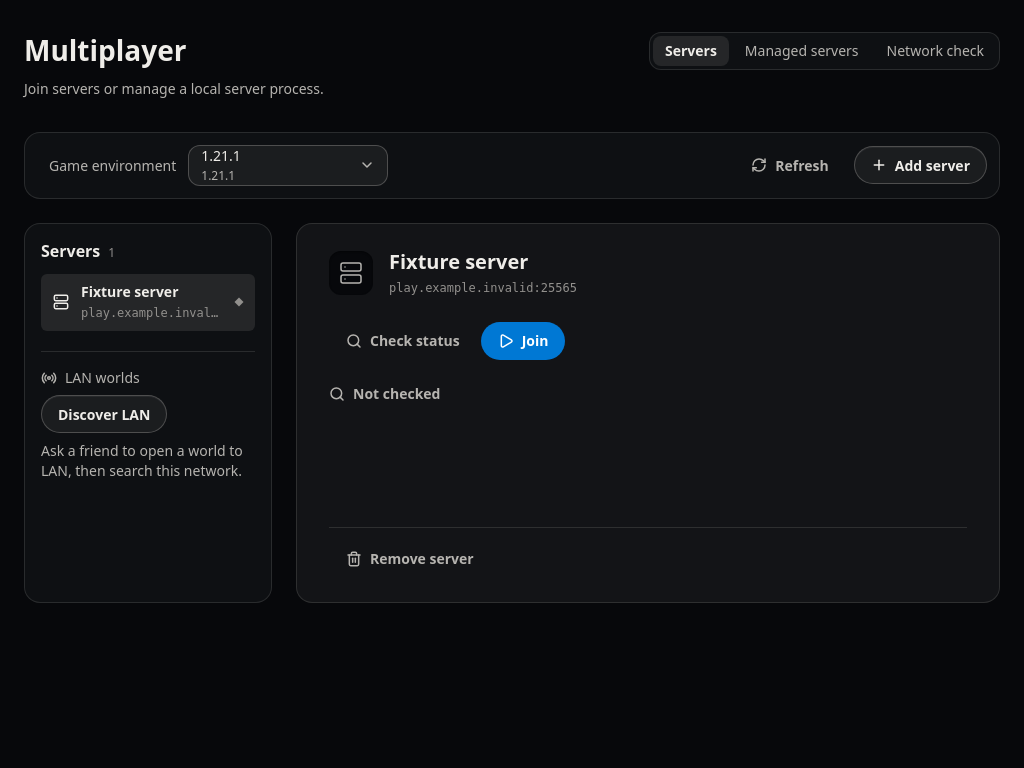
Scenario: multiplayer › refreshes on snapshot conflict and leaves the rejection visible for the current environment
This screenshot has width=1024, height=768.
Click the button "Remove server" at (410, 559), box [329,540,491,578]
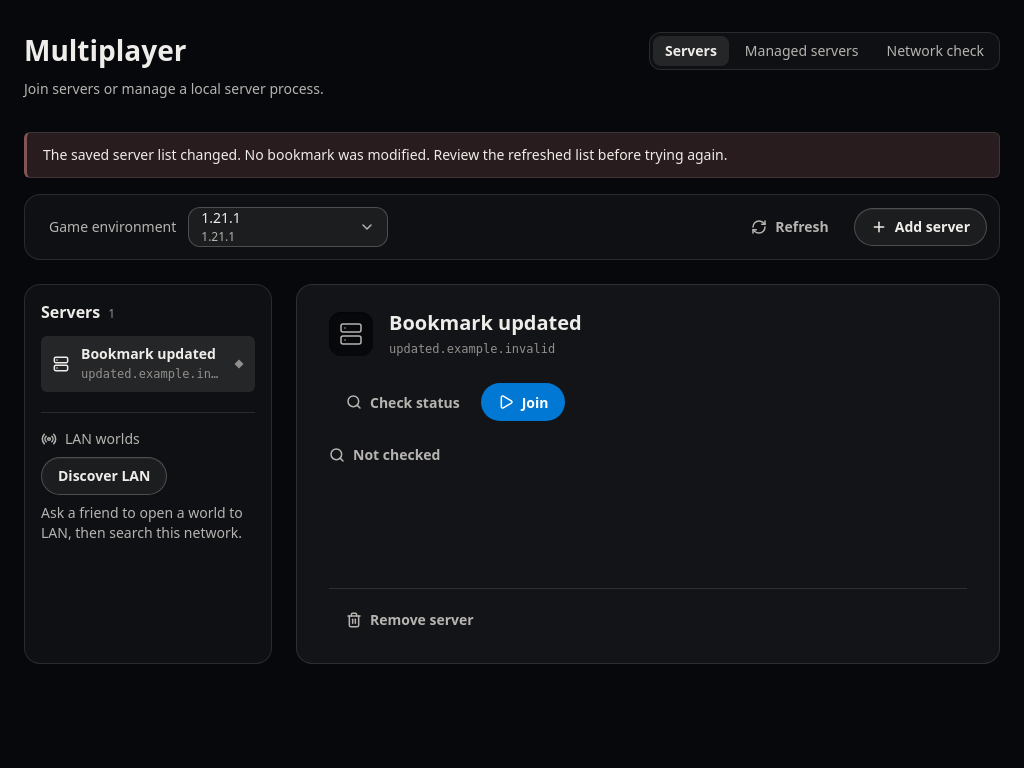
Now the heading "Bookmark updated" is shown, box [389,309,582,336]
Now the message shows "No bookmark was modified", box [43,145,728,164]
